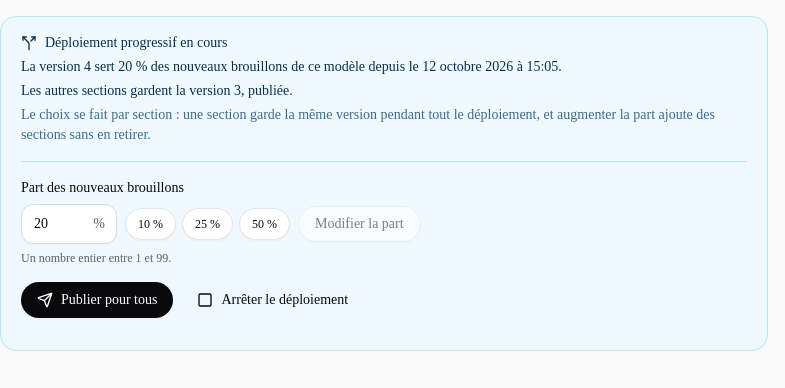
RolloutBanner on the candidate's page › changes the share
Check: the button "Modifier la part" is disabled, box [298,206,421,242]
Step 1. Replace the text in the number field labelled "Part des nouveaux brouillons" with "35" → x=69, y=224, box [21,204,117,244]
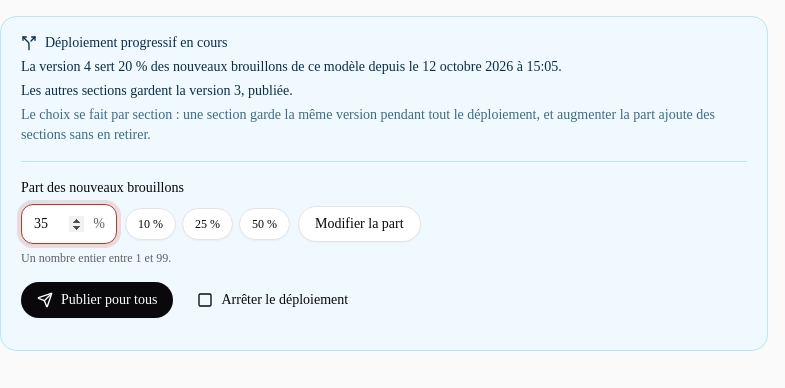
Step 2. Click the button "Modifier la part" → x=359, y=224, box [298,206,421,242]
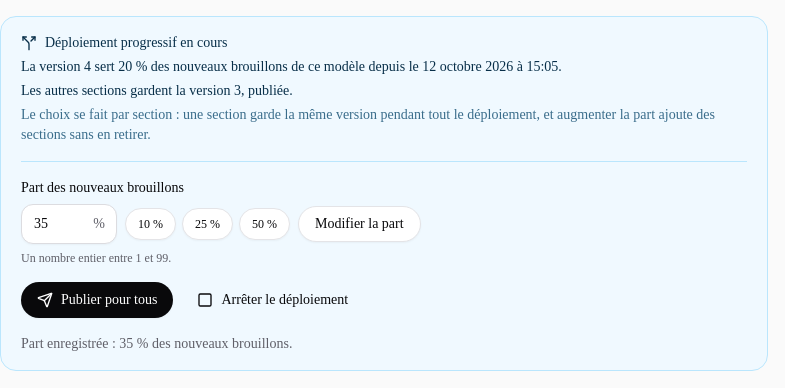
Check: the text "Part enregistrée : 35 % des nouveaux brouillons." is shown, box [21,336,292,351]
